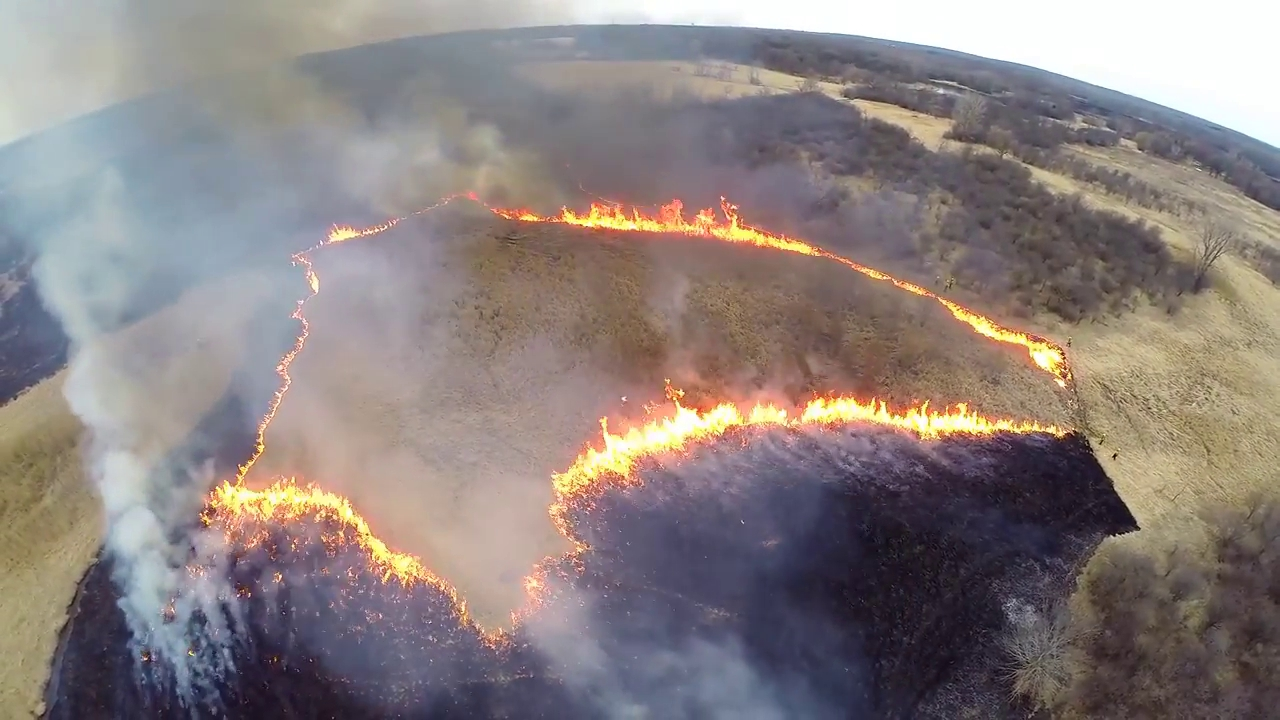forest_fire: (201, 218, 559, 646), (466, 195, 1073, 387), (548, 380, 1066, 561)
